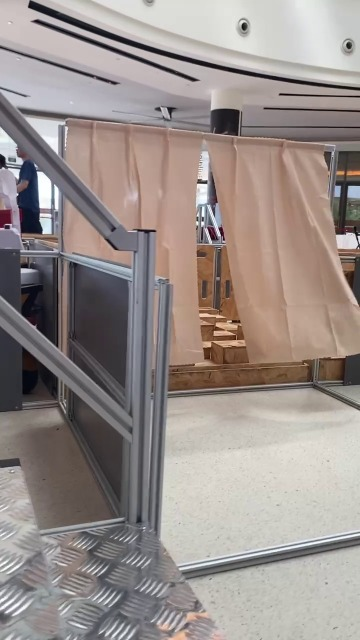curtain: (65, 128, 306, 397)
